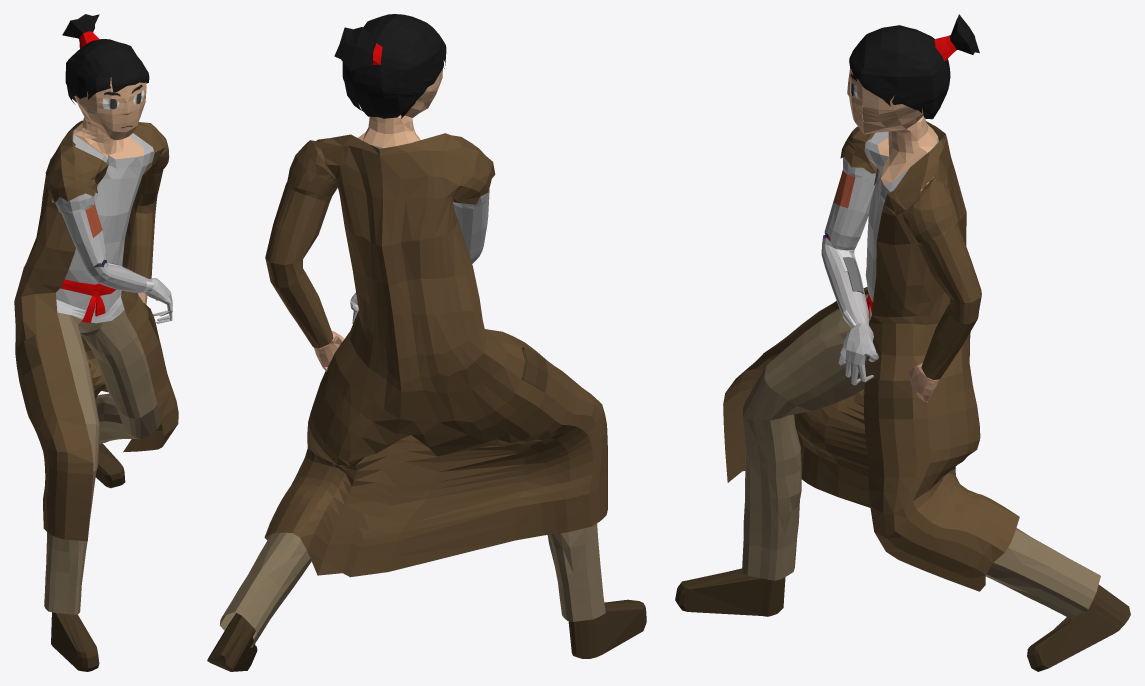
The model's file is One_RR_000016.obj.
The picture shows the model from 3 angles, left to right: view 1: azimuth 30°, elevation 25°; view 2: azimuth 150°, elevation 25°; view 3: azimuth 270°, elevation 25°; orthographic projection. The views are drawn at different scales.
Visible parts, largest first — view 1: Hair_Cube.004; view 2: Hair_Cube.004; view 3: Hair_Cube.004.
Boxes of the visible parts, bbox=[...] form: Hair_Cube.004: bbox=[14, 14, 178, 671]; Hair_Cube.004: bbox=[207, 14, 646, 671]; Hair_Cube.004: bbox=[675, 14, 1130, 671].
Bounding box in the file's own units: 1.35 × 3.63 × 2.29.
